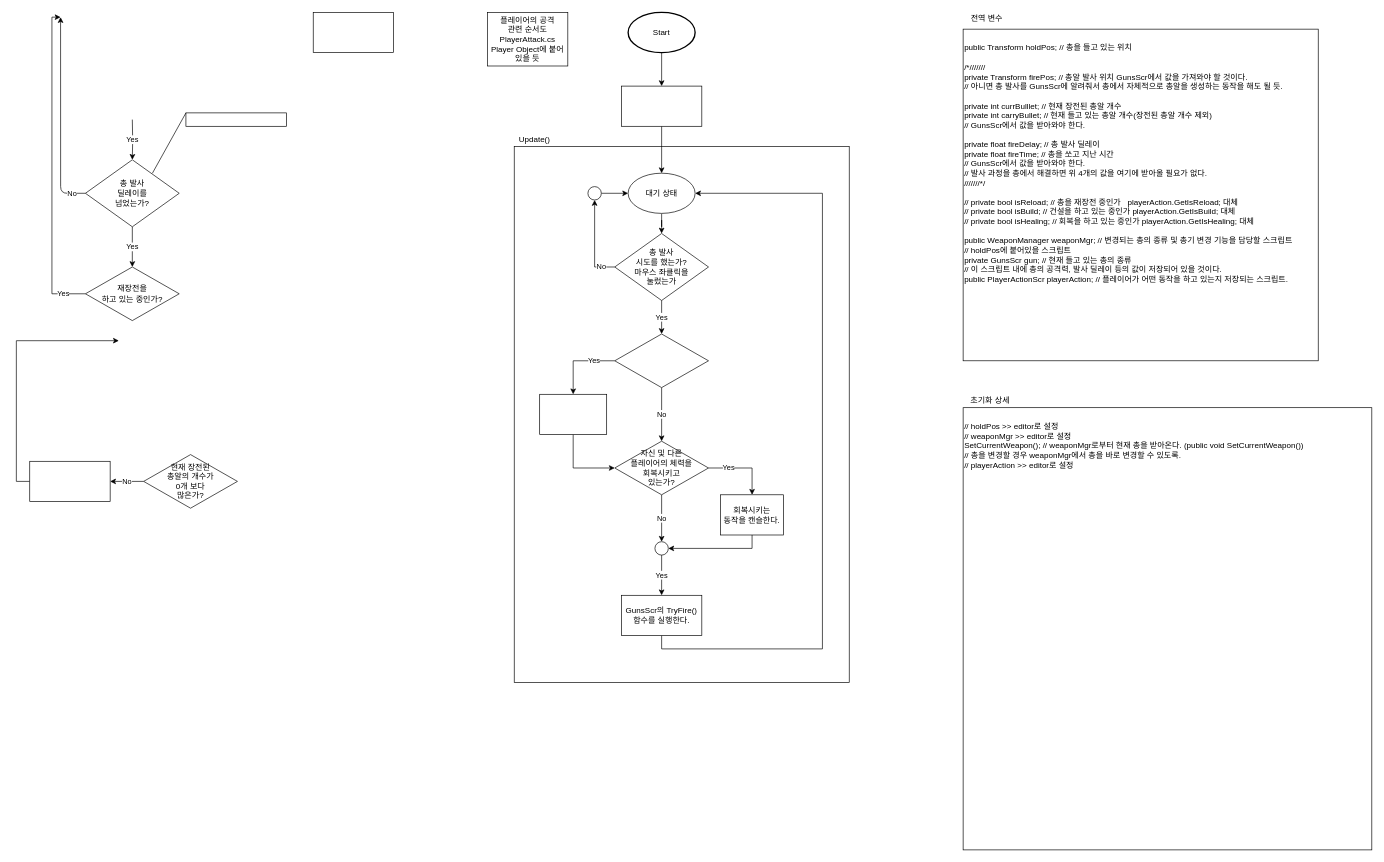
Some shapes in this 1384 by 862 pixel diagram are drawn without their labels. Each missing label, with the centre of its shape:
"fireTime > fireDelay" goes at point (235, 119).
"방어 물자 및 구호 물자를 설치하고 있는 중인가?" goes at point (661, 360).
"설치하는 동작을 캔슬한다." goes at point (573, 414).
"수정 내용" goes at point (353, 32).
"재장전 함수 실행" goes at point (69, 481).
"초기화" goes at point (661, 105).
